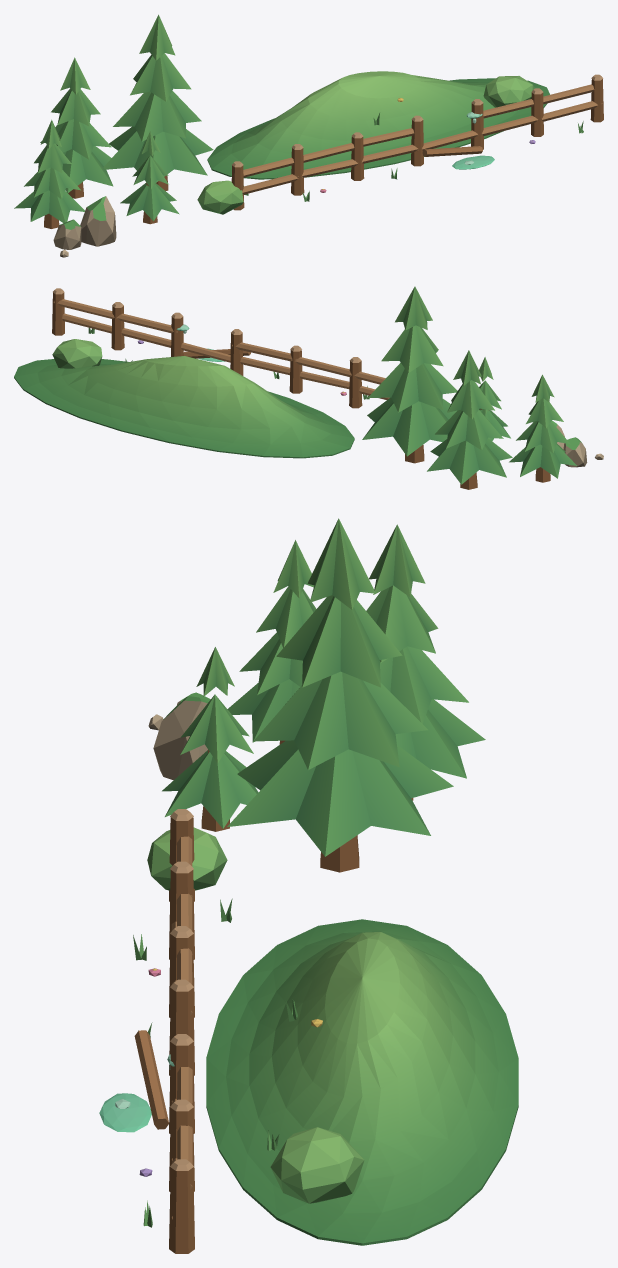
Rendered from ranch_border_chunk_c_m.fbx.
3 views of the same model, one above another, from view 1: azimuth 30°, elevation 25°; view 2: azimuth 150°, elevation 25°; view 3: azimuth 270°, elevation 25° (orthographic). The views are drawn at different scales.
Parts seen in each view (by area): view 1: ranch_border_chunk_c_m; view 2: ranch_border_chunk_c_m; view 3: ranch_border_chunk_c_m.
Part boxes in pixels (<box>): ranch_border_chunk_c_m: <box>14,14,603,257</box>; ranch_border_chunk_c_m: <box>14,286,603,489</box>; ranch_border_chunk_c_m: <box>99,518,518,1253</box>.
Size of the model in its own units: 55.83 by 17.03 by 18.6.
